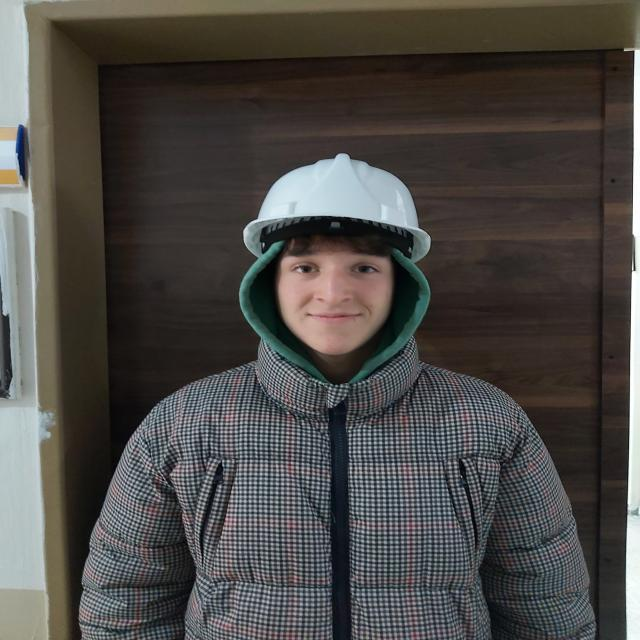helmet: (244, 154, 431, 262)
